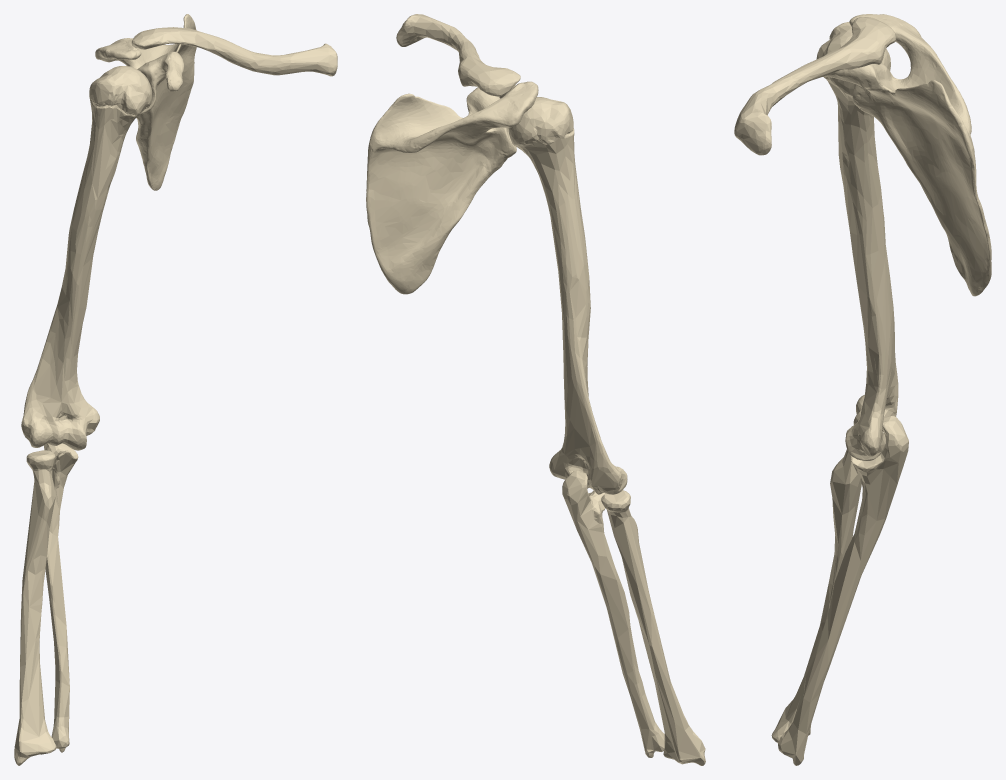
Rendered from z-upper-limb-bone.glb.
3 renders of one model, left to right at view 1: azimuth 30°, elevation 25°; view 2: azimuth 150°, elevation 25°; view 3: azimuth 270°, elevation 25°, orthographic. The views are drawn at different scales.
Parts seen in each view (by area): view 1: z-humerus-r, z-radius-r, z-scapula-r, z-ulna-r, z-clavicle-r; view 2: z-scapula-r, z-humerus-r, z-ulna-r, z-radius-r, z-clavicle-r; view 3: z-scapula-r, z-humerus-r, z-ulna-r, z-clavicle-r, z-radius-r.
Boxes of the visible parts, x1,y1,x2,y2 form: z-humerus-r: (21, 66, 152, 450); z-radius-r: (14, 450, 56, 765); z-scapula-r: (95, 14, 196, 190); z-ulna-r: (43, 443, 78, 752); z-clavicle-r: (131, 27, 337, 76); z-scapula-r: (366, 81, 538, 294); z-humerus-r: (508, 97, 627, 494); z-ulna-r: (562, 470, 664, 757); z-radius-r: (601, 490, 705, 765); z-clavicle-r: (396, 14, 520, 96); z-scapula-r: (822, 14, 991, 296); z-humerus-r: (816, 22, 898, 460); z-ulna-r: (778, 416, 908, 765); z-clavicle-r: (734, 17, 896, 155); z-radius-r: (771, 428, 861, 742).
Bounding box in the file's own units: 2.69 × 5.51 × 1.58.
